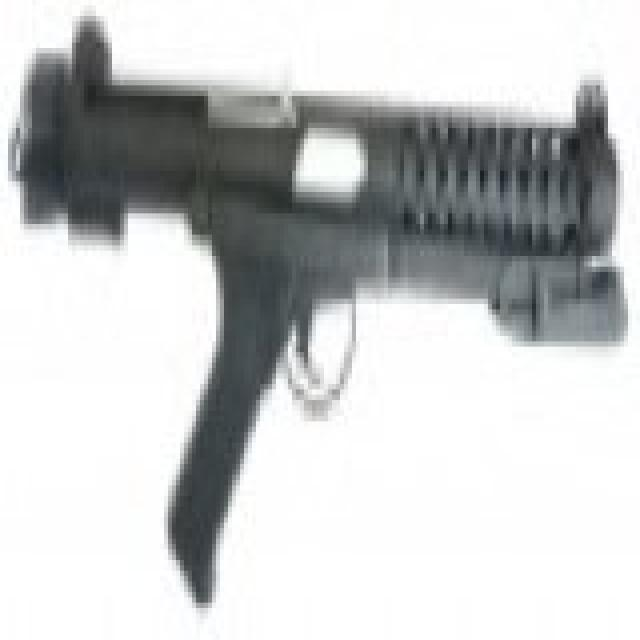Gun: (8, 2, 634, 602)
